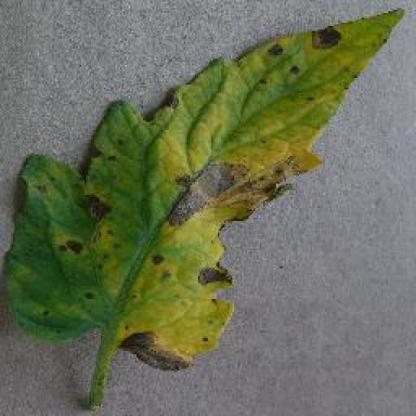Tomato_Blight: (5, 8, 404, 368)
